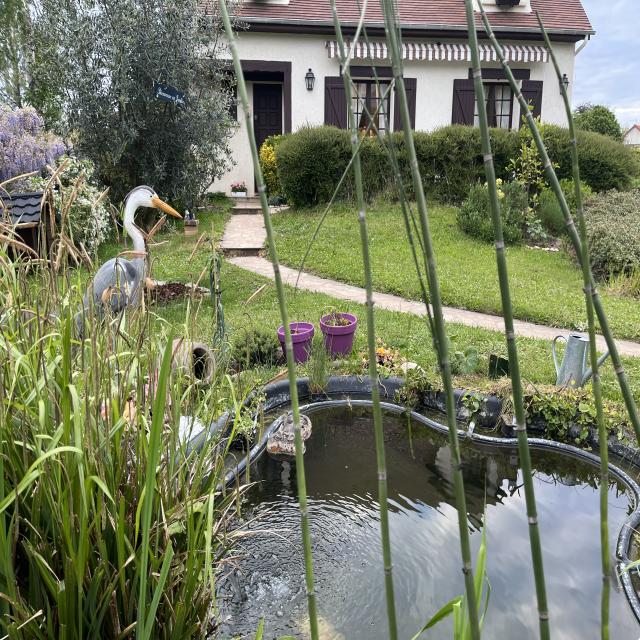Heron: (70, 182, 187, 387)
